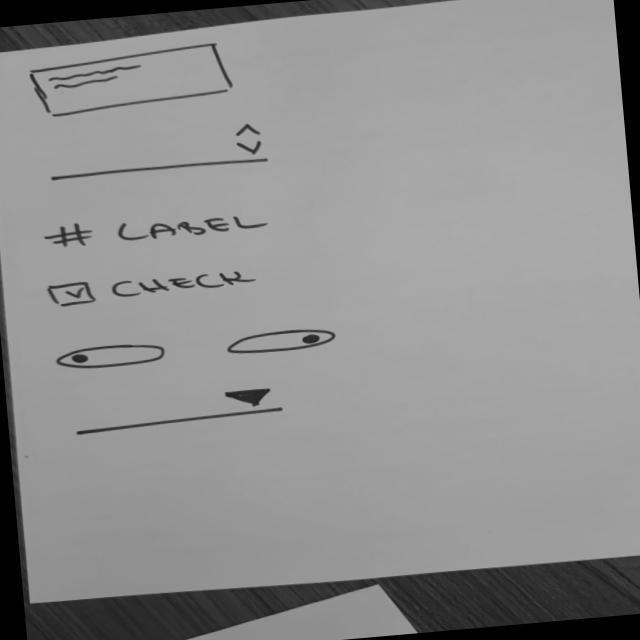checkbox: (41, 264, 270, 311)
label: (41, 205, 273, 253)
number-input: (39, 117, 276, 186)
select: (71, 381, 290, 440)
textarea: (28, 40, 239, 123)
toggle: (51, 340, 172, 375), (223, 324, 342, 359)
